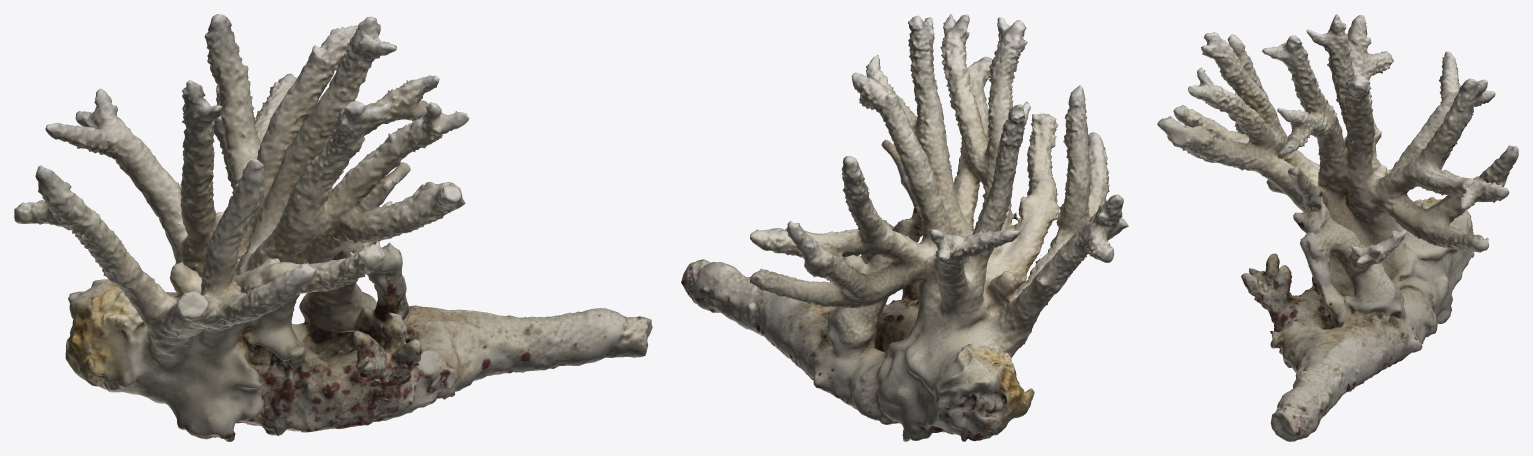
Rendered from usnm_74016-100k-2048_std.glb.
3 views of the same model, side by side, from view 1: azimuth 30°, elevation 25°; view 2: azimuth 150°, elevation 25°; view 3: azimuth 270°, elevation 25° (orthographic). The views are drawn at different scales.
Bounding box in the file's own units: 0.2828 × 0.2029 × 0.2012.
Materials: 1 (1 with a texture image).
